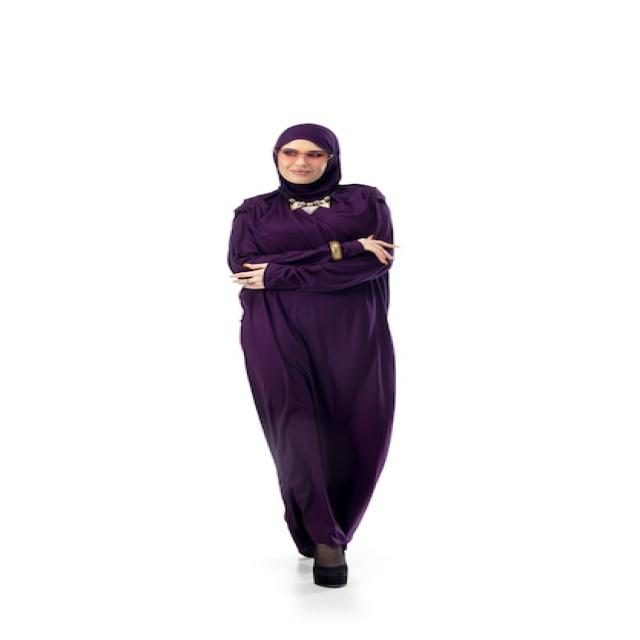Person: (225, 121, 395, 588)
